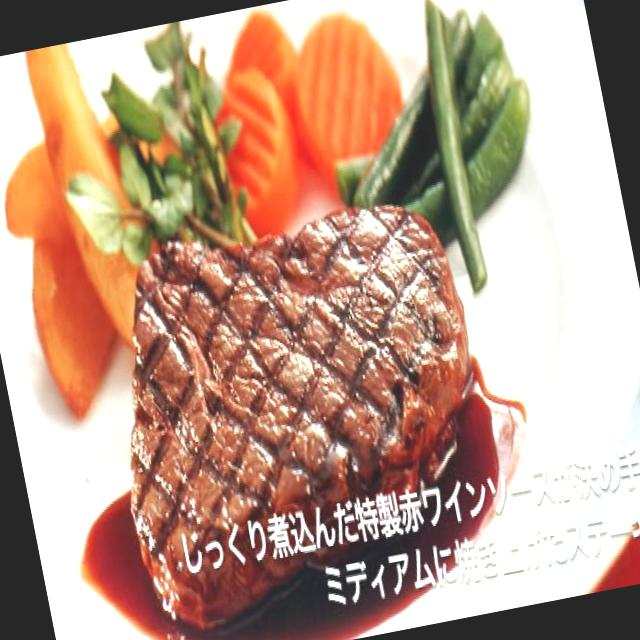Beef Steak: (84, 186, 489, 542)
